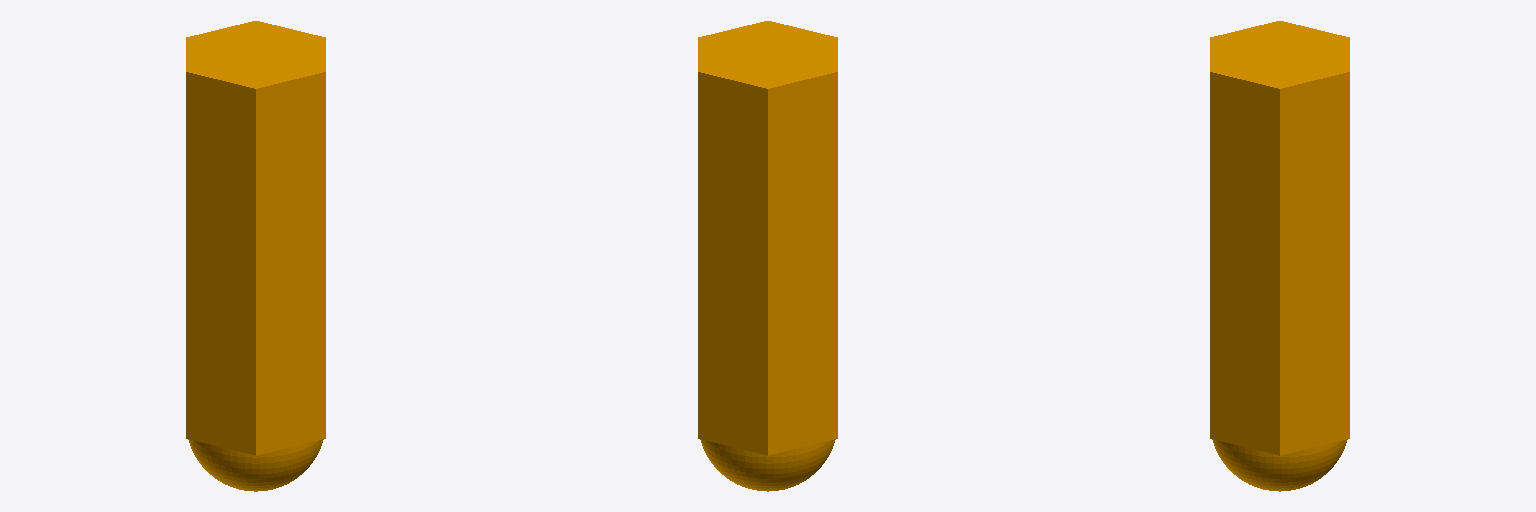
The robot description file, URDF, robot "peg_semisphere":
<?xml version="1.0"?>
<robot name="peg_semisphere">
    <link name="peg_semisphere">
        <visual>
            <geometry>
                <mesh filename="../mesh/vitascope_pegs/peg_semisphere.obj"/>
            </geometry>
        </visual>
        <collision>
            <geometry>
                <mesh filename="../mesh/vitascope_pegs/peg_semisphere.obj"/>
            </geometry>
            <sdf resolution="256"/>
        </collision>
    </link>
</robot>

--- Facts derived from the render (not from the file) ---
Views: 3 orthographic renders of the robot side by side, from view 1: azimuth 30°, elevation 25°; view 2: azimuth 150°, elevation 25°; view 3: azimuth 270°, elevation 25°.
Model peg_semisphere with 1 links and 0 joints (none), rooted at peg_semisphere, posed all joints at 0.
Visible links, largest first — view 1: peg_semisphere; view 2: peg_semisphere; view 3: peg_semisphere.
Link boxes in pixels (box(x1,y1,x2,y2)): peg_semisphere: box(186, 21, 325, 491); peg_semisphere: box(698, 21, 837, 491); peg_semisphere: box(1210, 21, 1349, 491).
Bounding box of the posed robot: 0.04 × 0.0346 × 0.1173 m (x, y, z).
1 mesh visuals loaded from 1 distinct referenced files (1 OBJ).
